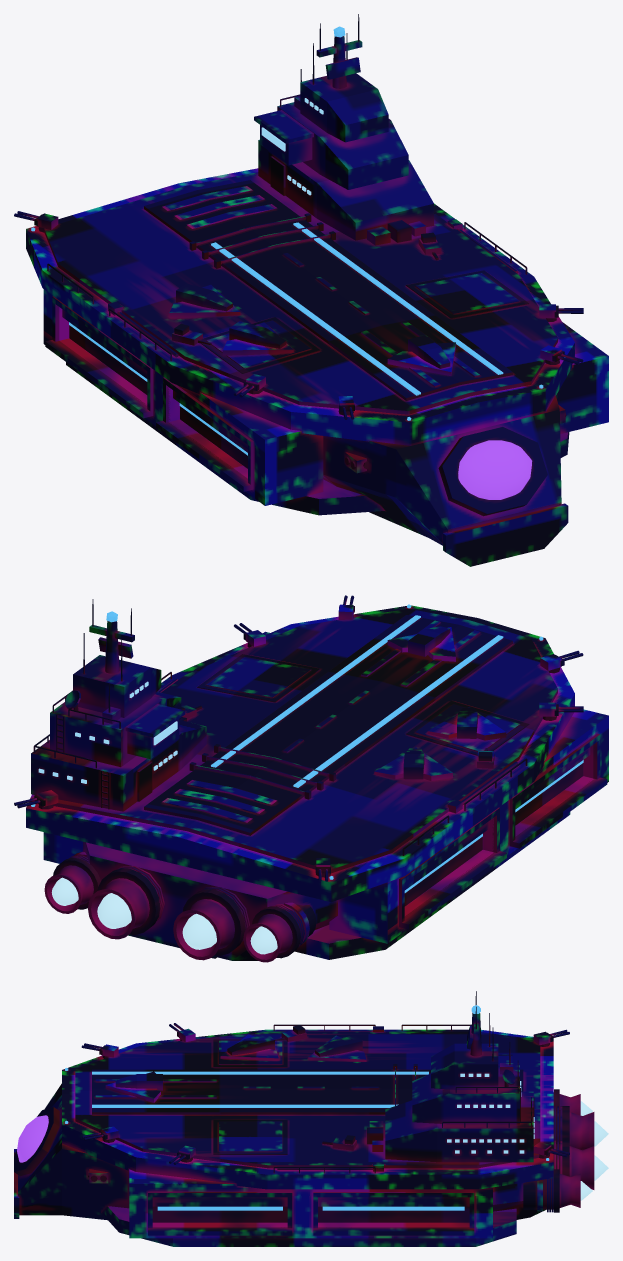
The model's file is titan_carrier.glb.
3 views of the same model, one above another, from view 1: azimuth 30°, elevation 25°; view 2: azimuth 150°, elevation 25°; view 3: azimuth 270°, elevation 25° (orthographic). The views are drawn at different scales.
Parts seen in each view (by area): view 1: titan_carrier; view 2: titan_carrier; view 3: titan_carrier.
Part boxes in pixels (x1=…): titan_carrier: x1=14, y1=14, x2=608, y2=566; titan_carrier: x1=14, y1=595, x2=608, y2=962; titan_carrier: x1=14, y1=991, x2=608, y2=1246.
Size of the model in its own units: 5.12 by 4.35 by 8.83.
13 materials, 9 textured.
